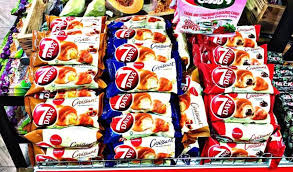7days: (109, 60, 182, 94), (26, 97, 102, 128), (34, 32, 102, 65), (203, 65, 277, 94), (205, 95, 277, 124), (108, 111, 175, 138), (109, 138, 175, 165), (31, 65, 105, 89), (110, 94, 176, 115), (110, 43, 175, 61), (208, 47, 267, 66)
